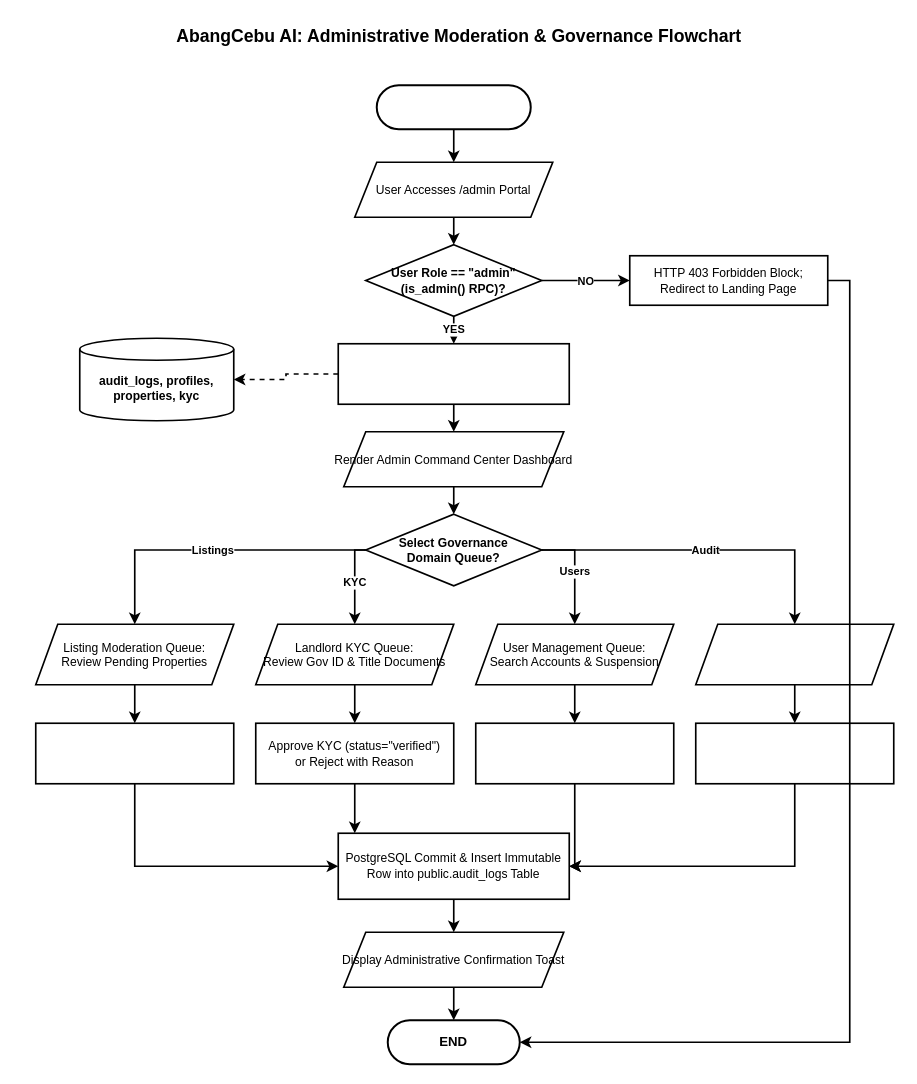
Some shapes in this 917 by 1084 pixel diagram are drawn without their labels. Here are the shapes that lost their labels. From the top down, the centre of each, then its label:
point 453,107: START
point 453,373: Fetch System Metrics: Pending Listings, Pending KYC, Active Users, Reports
point 794,654: Audit Log Inspector: Filter Immutable Event Trails
point 134,753: Approve (status="approved") or Reject with Notes
point 574,753: Toggle is_suspended Flag & Trigger Global Sign-Out
point 794,753: Export CSV / View Actor IP & Payload Details
